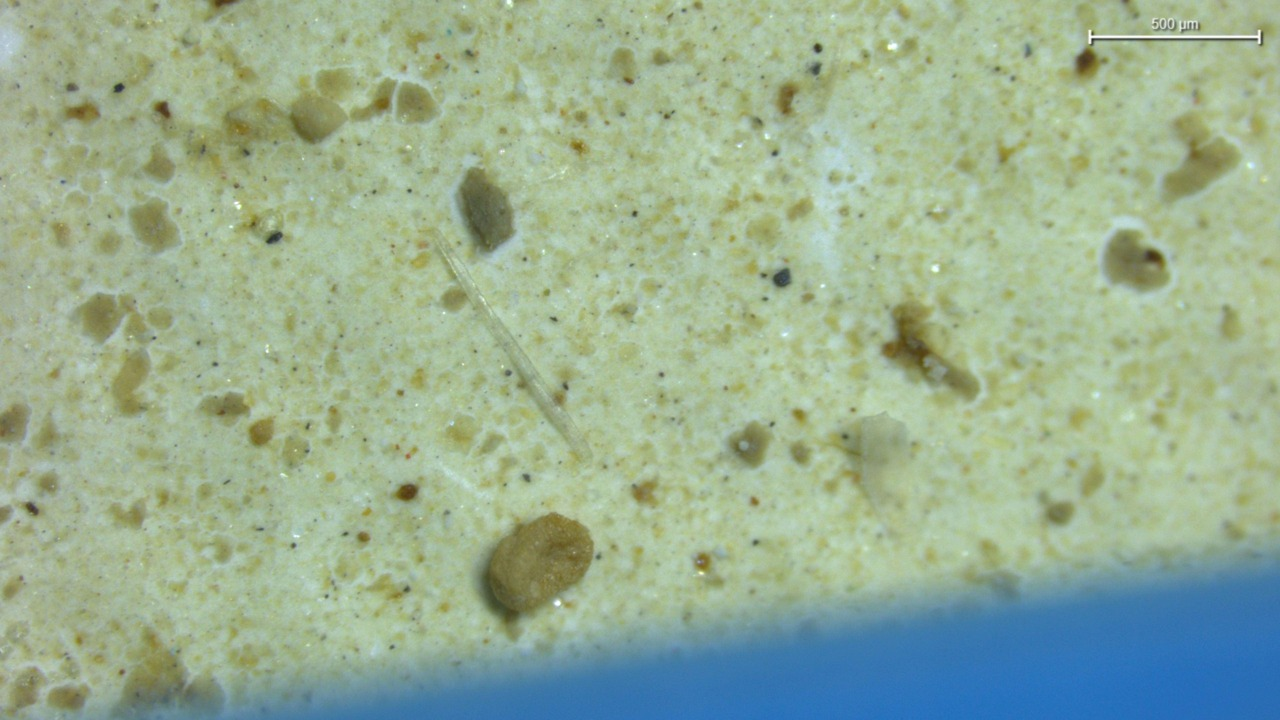microplastic_fragment: (487, 513, 593, 612), (290, 94, 348, 142)
